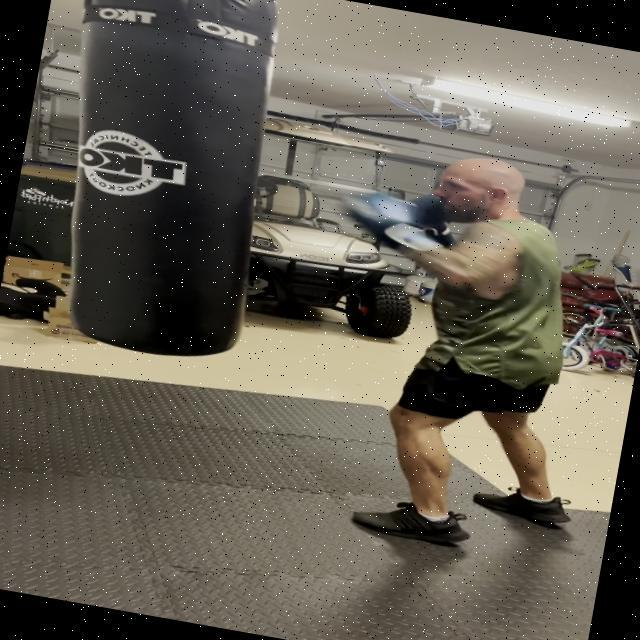uppercut: (239, 114, 582, 352)
